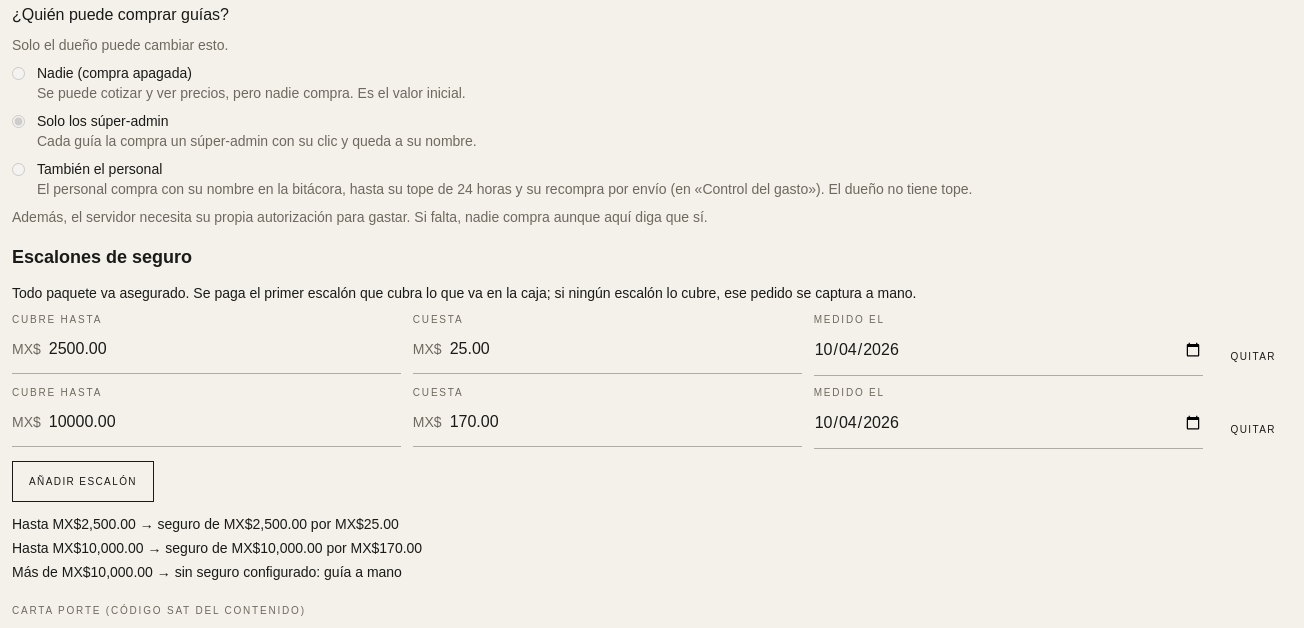
it: UX-SDX-17 · la puerta de compra y los escalones › escalones no crecientes ⇒ error bajo la fila y CERO PUT
Replace the text in the 2nd field labelled "Cubre hasta" with "2000" at (225, 422), box [49,410,401,434]
(page scrolled)
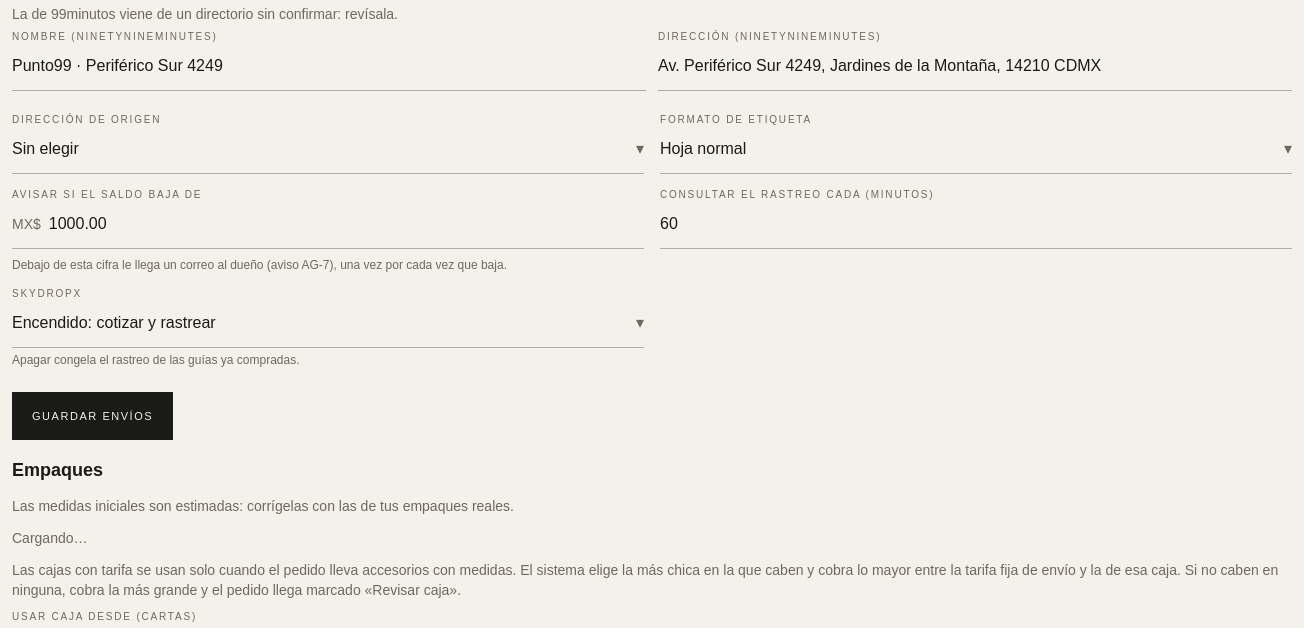
Click the button "Guardar envíos" at (93, 416), box [12,392,173,440]
(page scrolled)
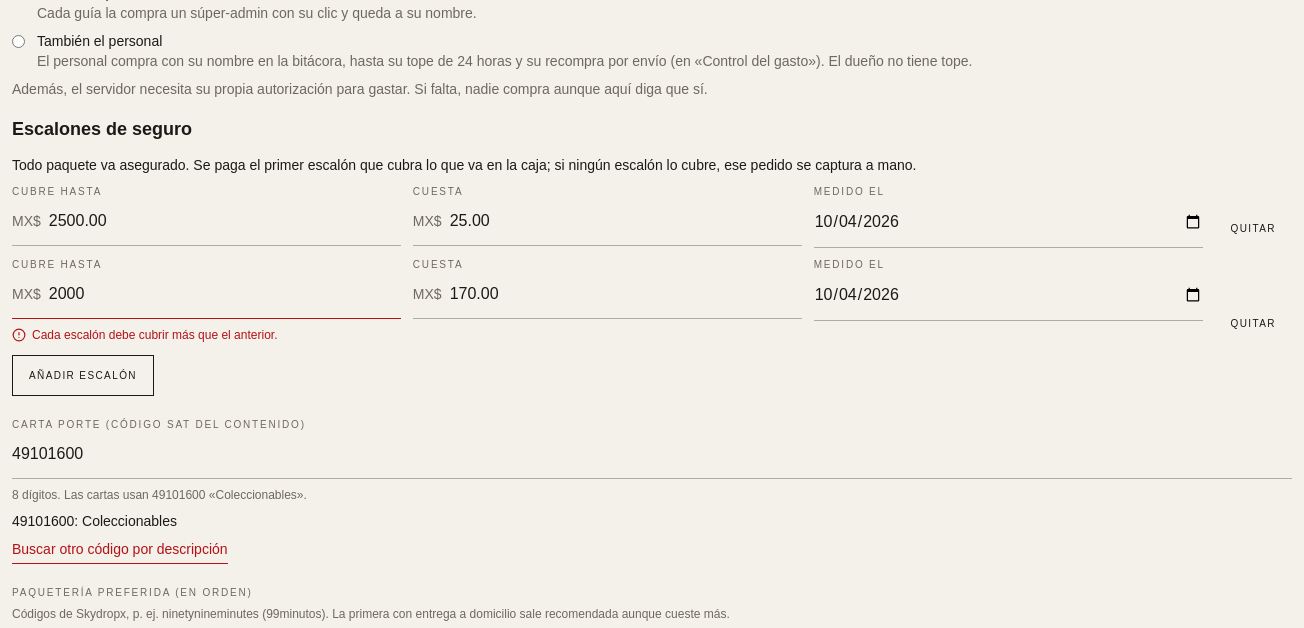
Expected: the text "Cada escalón debe cubrir más que el anterior." is shown, [12,328,278,342]
